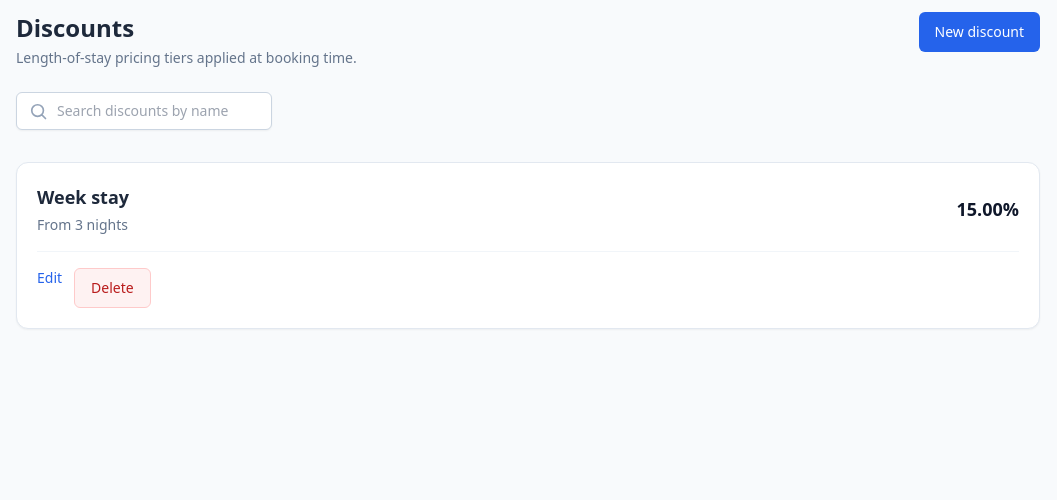
Test: Staff discount list page › deletes a discount after confirmation and shows a success banner
Click the button "Delete" at (112, 288), box [74,268,151,308]
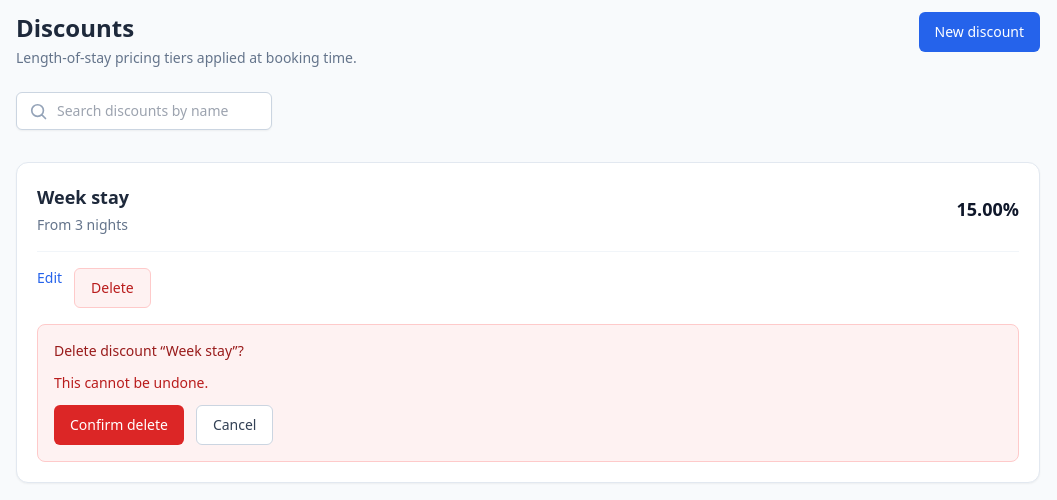
Expected: the text "Delete discount “Week stay”?" is shown, [54,341,244,360]
Click the button "Confirm delete" at (119, 425), box [54,405,184,445]
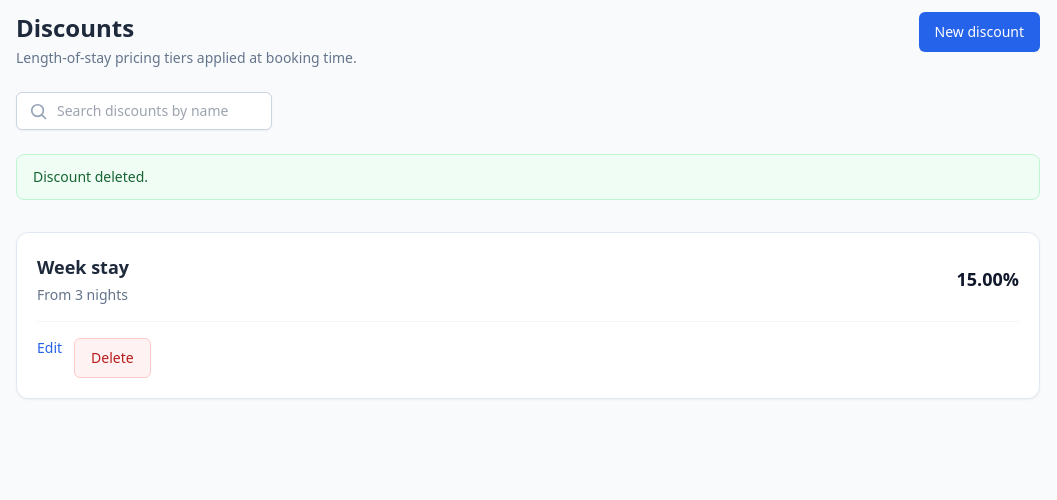
Expected: the text "Discount deleted." is shown, [16,154,1040,200]
